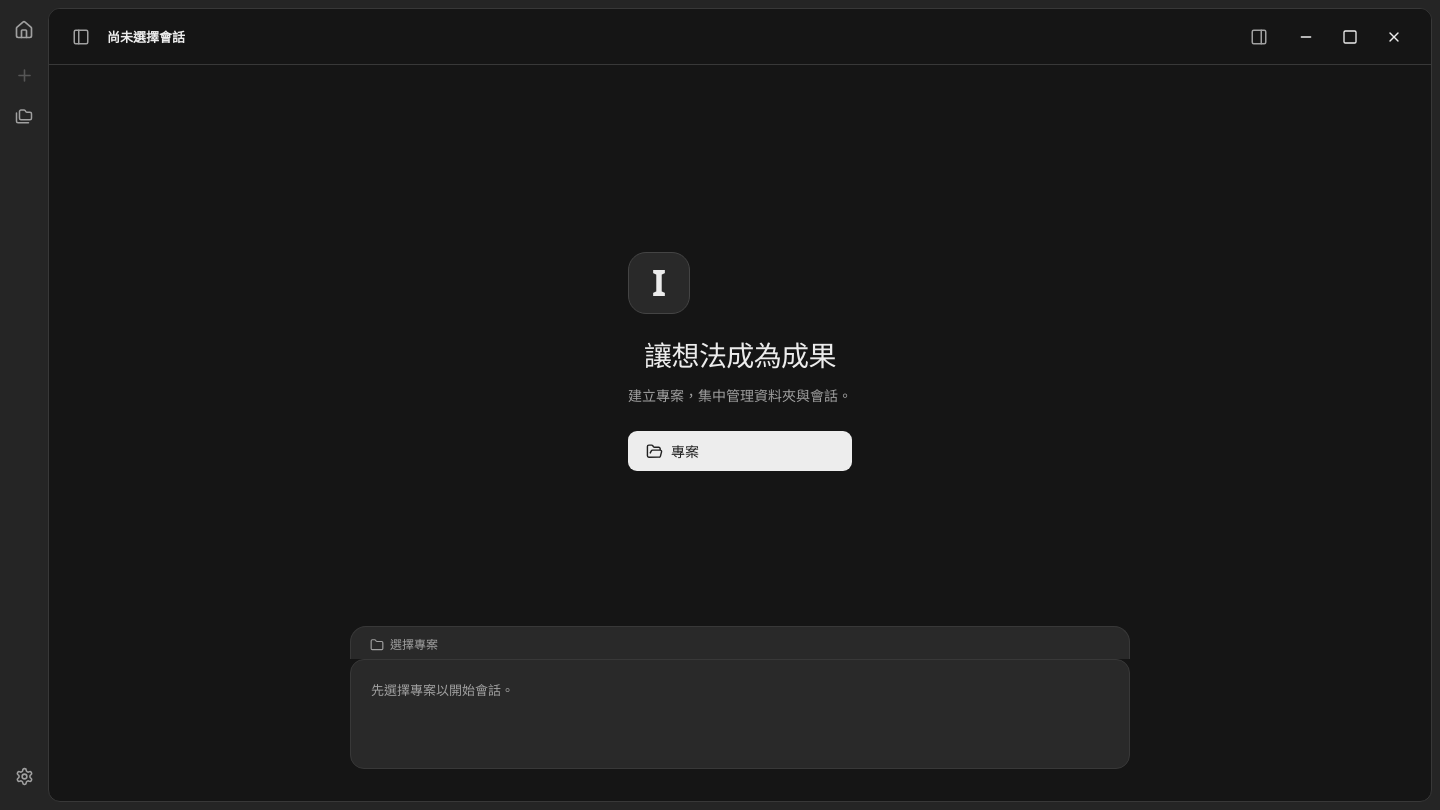
closes the Home drawer when entering standalone project management without picking a folder
The image size is (1440, 810).
Click the button named "顯示側欄" at [81, 36], box [65,20,97,52]
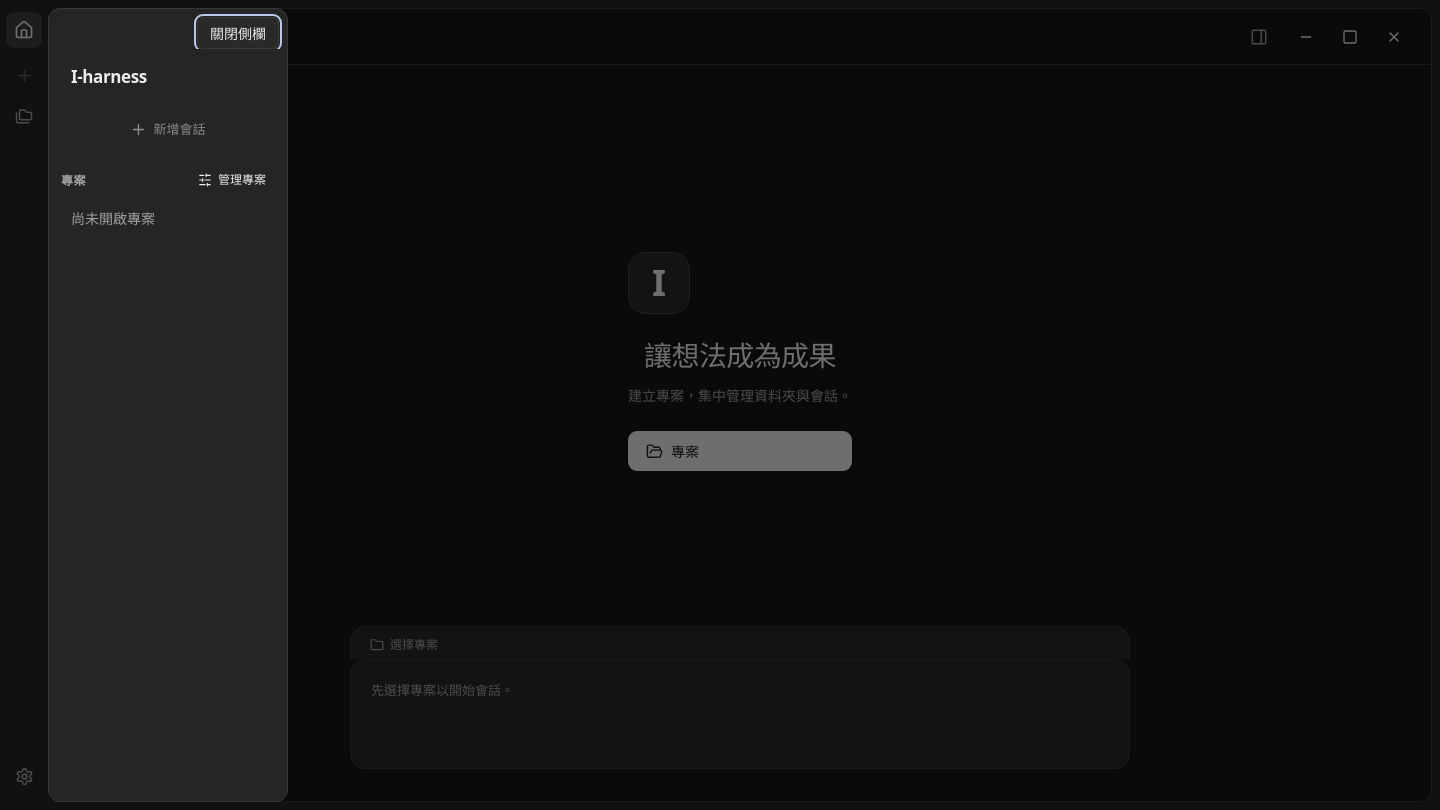
Click the button "管理專案" at [232, 180], box [189,166,275,194]
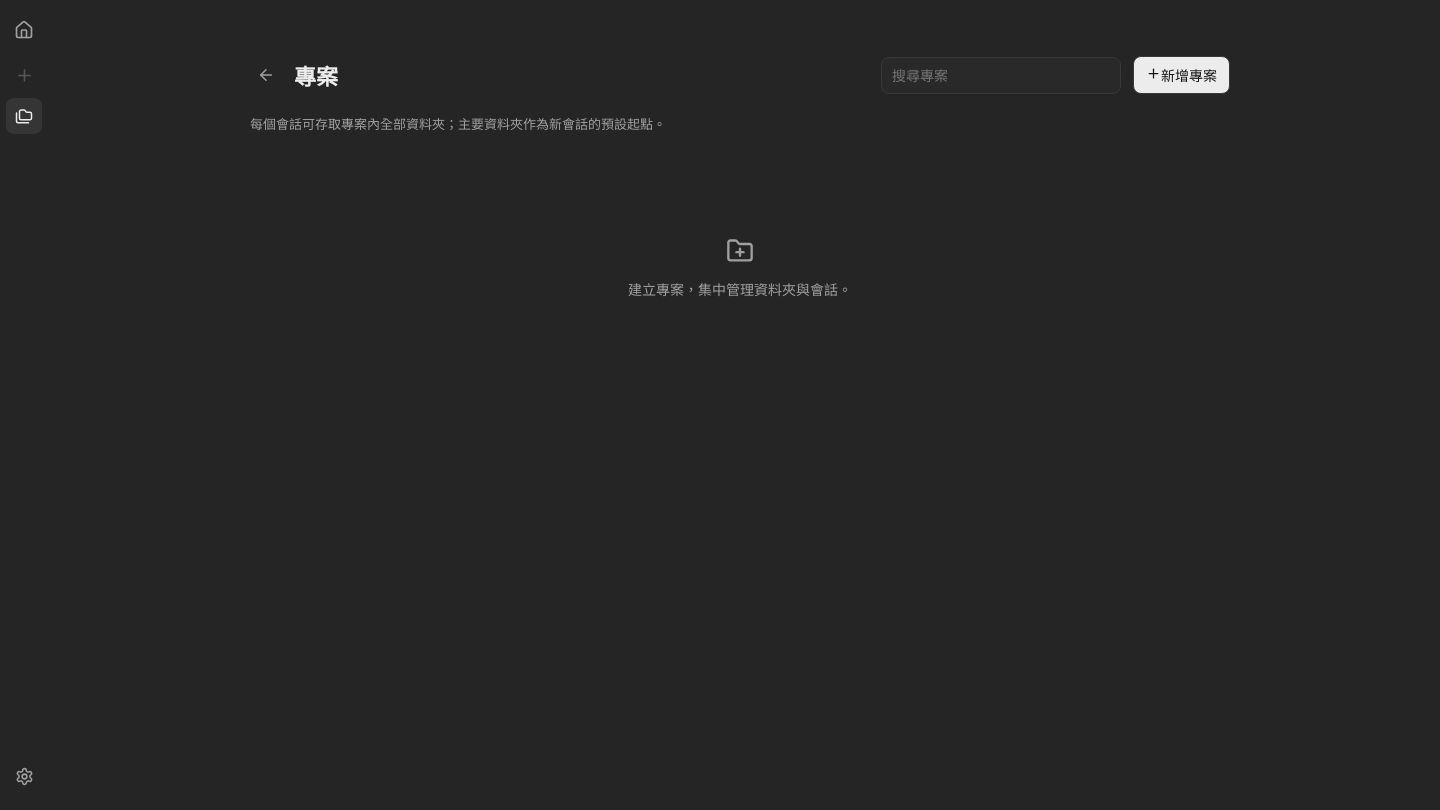
Result: the dialog is gone
Result: the element "專案" is shown at [250,56,1230,299]
